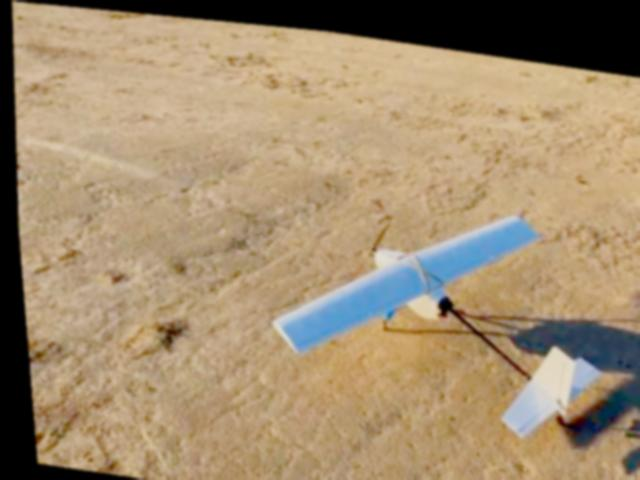uav: (250, 166, 609, 440)
